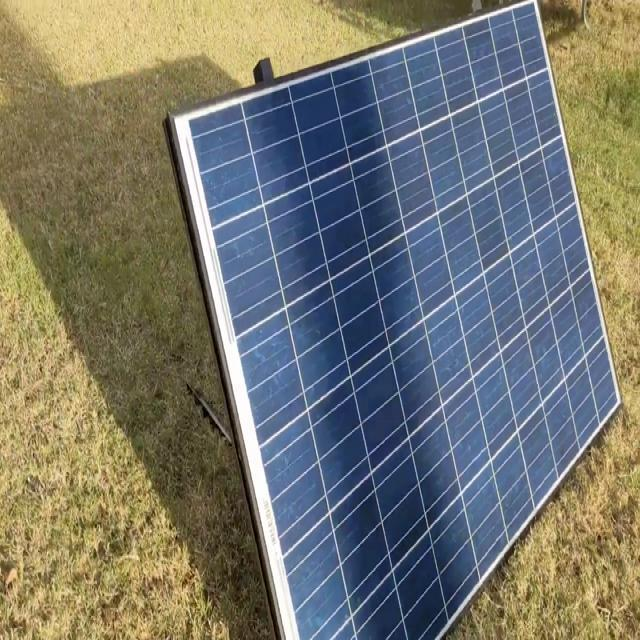Normal Solar Panel: (168, 0, 622, 640)
